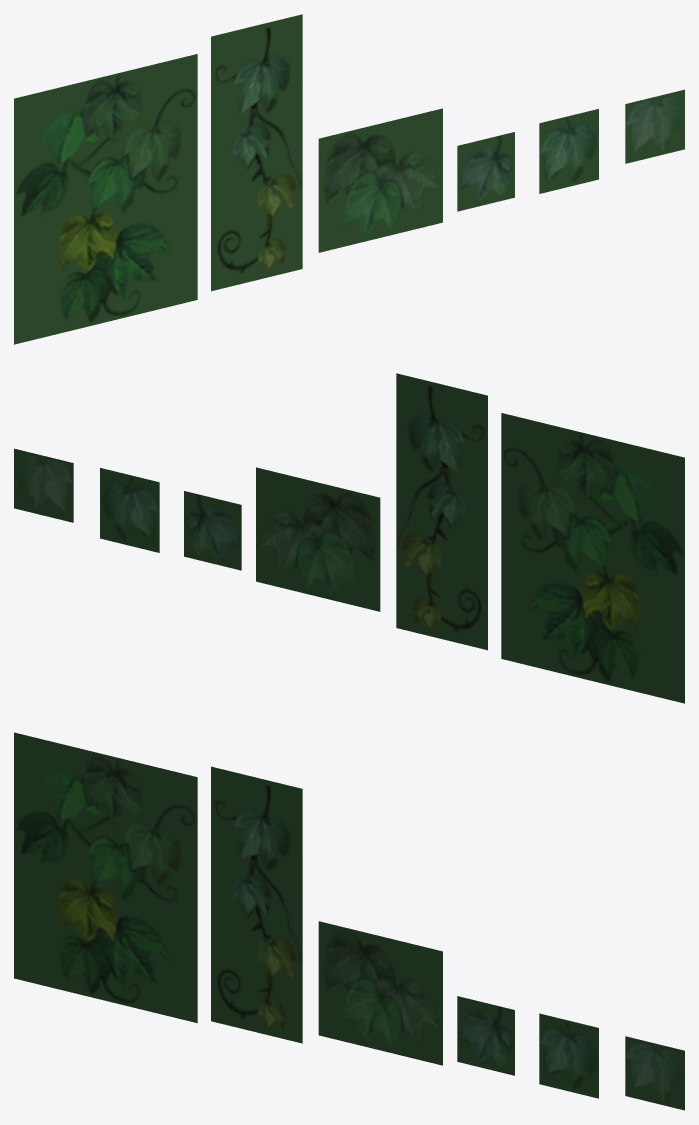
File: ZC_tengtiao01.FBX
3 views of the same model, one above another, from view 1: azimuth 30°, elevation 25°; view 2: azimuth 150°, elevation 25°; view 3: azimuth 330°, elevation 25° (orthographic).
Visible parts, largest first — view 1: ZC_tengtiao01_001, ZC_tengtiao01_002, ZC_tengtiao01_003, ZC_tengtiao01_005, ZC_tengtiao01_004, ZC_tengtiao01_006; view 2: ZC_tengtiao01_001, ZC_tengtiao01_002, ZC_tengtiao01_003, ZC_tengtiao01_005, ZC_tengtiao01_004, ZC_tengtiao01_006; view 3: ZC_tengtiao01_001, ZC_tengtiao01_002, ZC_tengtiao01_003, ZC_tengtiao01_005, ZC_tengtiao01_004, ZC_tengtiao01_006.
Boxes of the visible parts, x1,y1,x2,y2 form: ZC_tengtiao01_001: (14, 54, 197, 344); ZC_tengtiao01_002: (211, 14, 302, 291); ZC_tengtiao01_003: (318, 108, 442, 252); ZC_tengtiao01_005: (539, 109, 598, 193); ZC_tengtiao01_004: (457, 132, 514, 211); ZC_tengtiao01_006: (625, 89, 684, 163); ZC_tengtiao01_001: (501, 413, 684, 703); ZC_tengtiao01_002: (396, 373, 487, 650); ZC_tengtiao01_003: (256, 467, 380, 611); ZC_tengtiao01_005: (100, 468, 159, 552); ZC_tengtiao01_004: (184, 491, 241, 570); ZC_tengtiao01_006: (14, 448, 73, 522); ZC_tengtiao01_001: (14, 732, 197, 1023); ZC_tengtiao01_002: (211, 766, 302, 1043); ZC_tengtiao01_003: (318, 921, 442, 1065); ZC_tengtiao01_005: (539, 1013, 598, 1098); ZC_tengtiao01_004: (457, 996, 514, 1075); ZC_tengtiao01_006: (625, 1036, 684, 1110).
Size of the model in its own units: 292 by 108 by 9.26e-06.
1 material, 1 textured.
